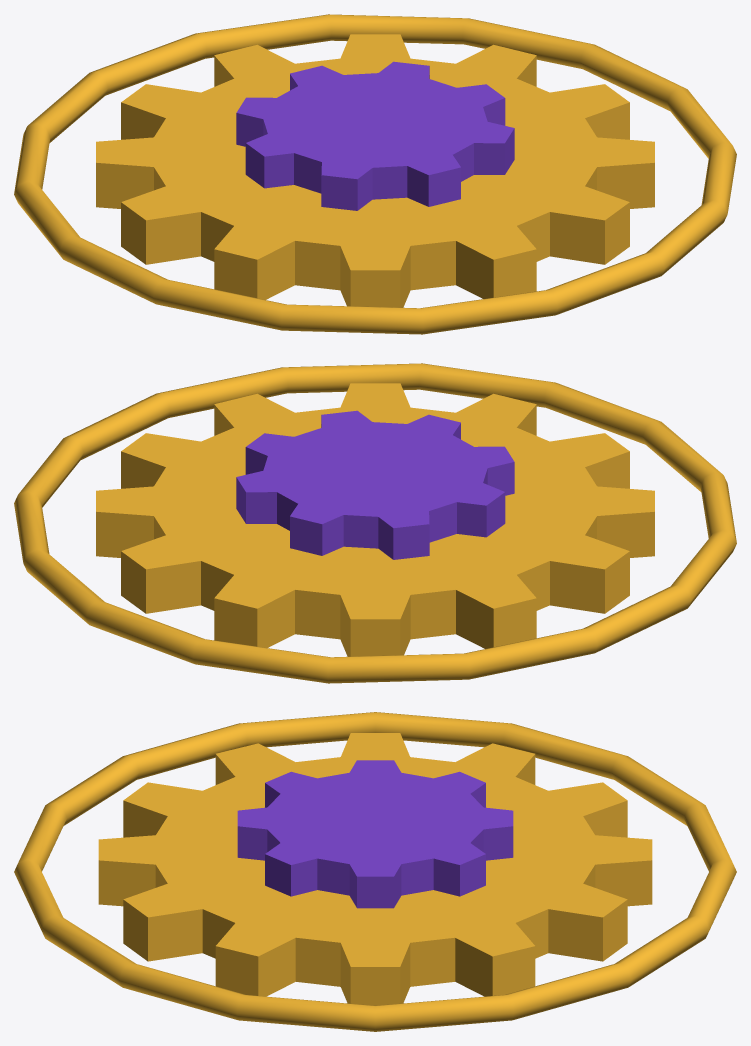
File: torre-engrenagem.glb
The picture shows the model from 3 angles, top to bottom: view 1: azimuth 30°, elevation 25°; view 2: azimuth 150°, elevation 25°; view 3: azimuth 270°, elevation 25°; orthographic projection.
Parts seen in each view (by area): view 1: TorreEngrenagem; view 2: TorreEngrenagem; view 3: TorreEngrenagem.
Boxes of the visible parts, x1,y1,x2,y2 form: TorreEngrenagem: (14, 14, 736, 334); TorreEngrenagem: (14, 363, 736, 683); TorreEngrenagem: (14, 712, 736, 1031).
Size of the model in its own units: 2.08 by 0.296 by 2.08.
